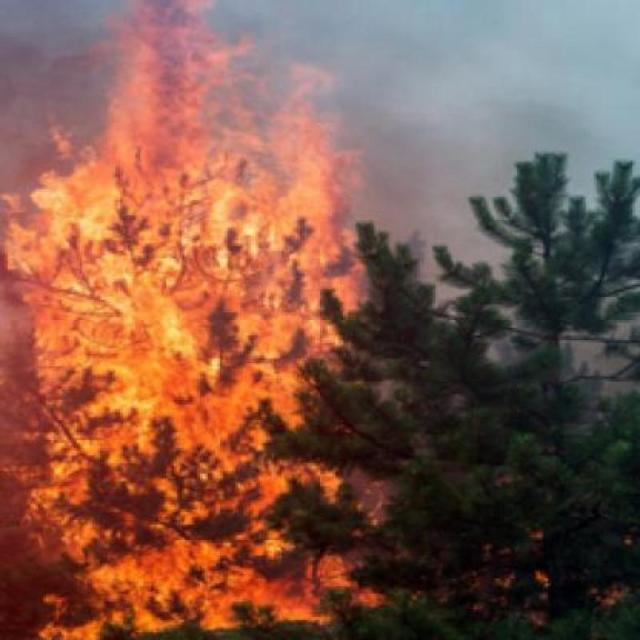Fire: (0, 85, 398, 640)
